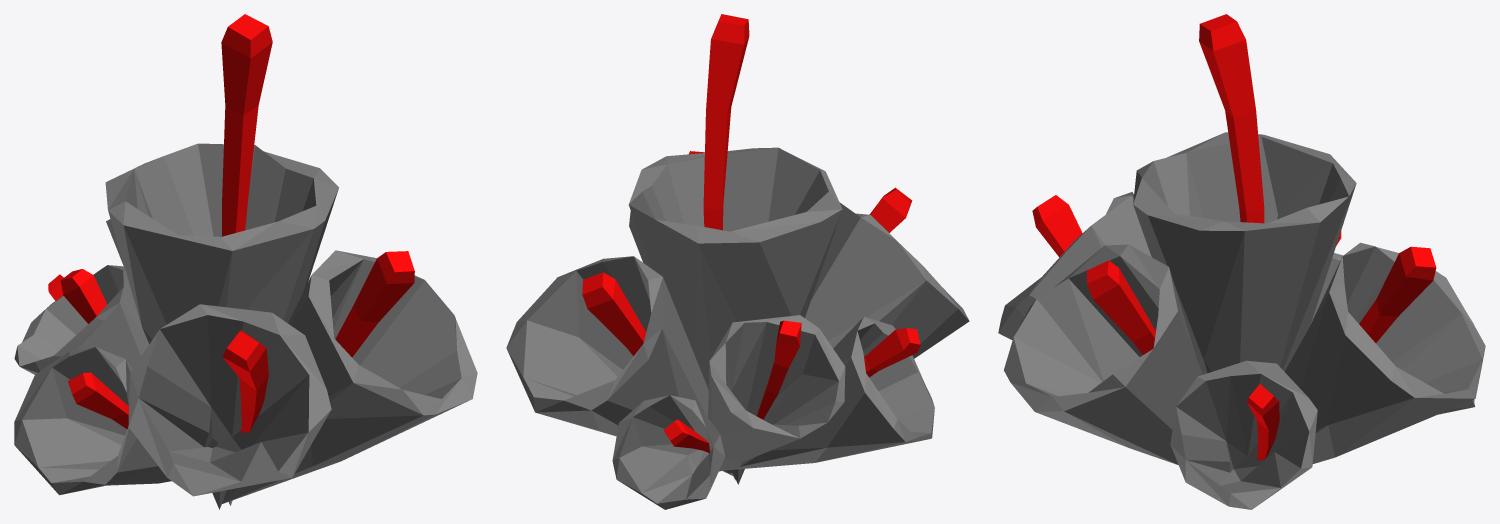
The model's file is FungiCone05.fbx.
3 renders of one model, left to right at view 1: azimuth 30°, elevation 25°; view 2: azimuth 150°, elevation 25°; view 3: azimuth 270°, elevation 25°, orthographic. The views are drawn at different scales.
Parts seen in each view (by area): view 1: FungiCone05; view 2: FungiCone05; view 3: FungiCone05.
Part boxes in pixels (<box>): FungiCone05: <box>14,14,477,509</box>; FungiCone05: <box>506,14,969,509</box>; FungiCone05: <box>998,14,1485,509</box>.
Size of the model in its own units: 52.2 by 61.76 by 56.84.
